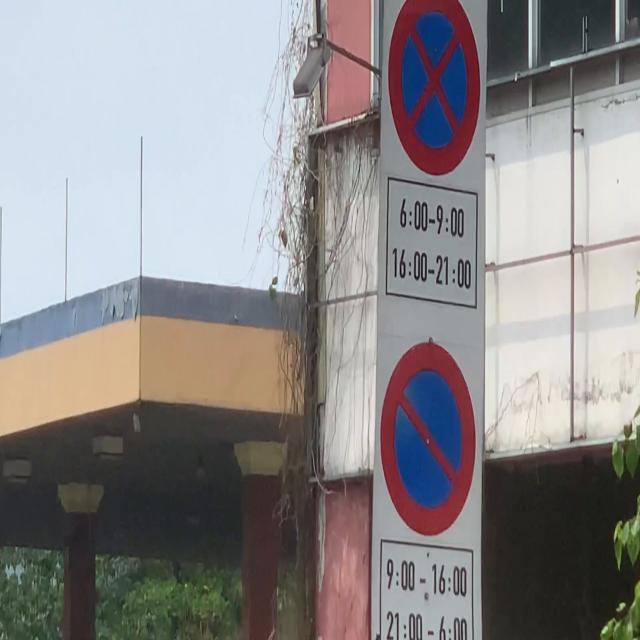Cam do: (380, 340, 477, 538)
Cam dung va do: (388, 0, 482, 178)
